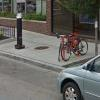Bicycle: (51, 29, 89, 62)
